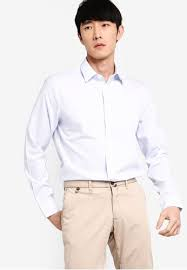F_shirt: (22, 59, 183, 218)
